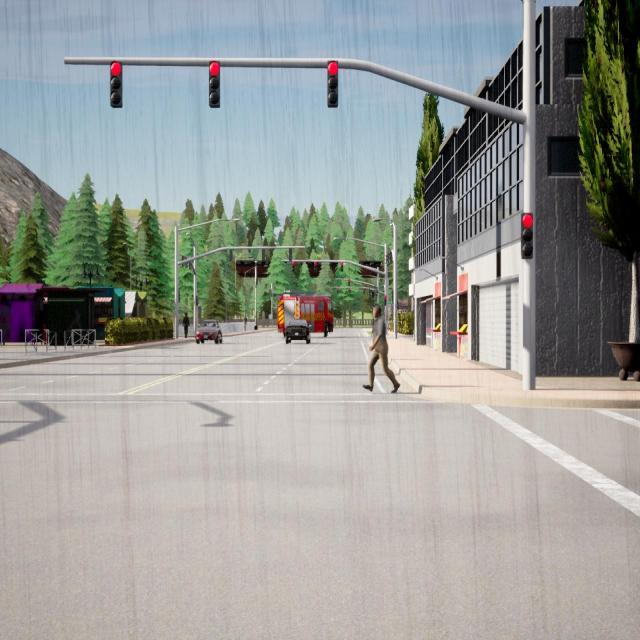Pedestrian: (363, 304, 400, 392), (182, 312, 190, 338), (244, 315, 246, 332)
Traffic_Signs: (268, 314, 272, 319)
Vehicle: (277, 291, 333, 337), (196, 319, 222, 345), (286, 320, 310, 344)
traffic_light: (521, 212, 534, 260), (110, 61, 123, 108), (209, 60, 221, 108), (328, 60, 338, 108), (262, 248, 265, 262), (289, 248, 292, 261), (314, 261, 317, 272), (185, 257, 188, 268), (292, 261, 295, 271), (392, 290, 394, 304), (178, 290, 180, 302), (230, 249, 232, 261), (182, 256, 184, 267), (386, 255, 388, 266), (388, 253, 390, 264), (341, 262, 343, 272), (390, 252, 392, 262), (196, 296, 198, 305), (384, 296, 386, 304), (189, 262, 191, 270), (348, 288, 351, 293), (348, 279, 350, 286), (256, 278, 258, 284), (336, 288, 338, 293), (363, 288, 365, 293), (270, 290, 271, 294)
